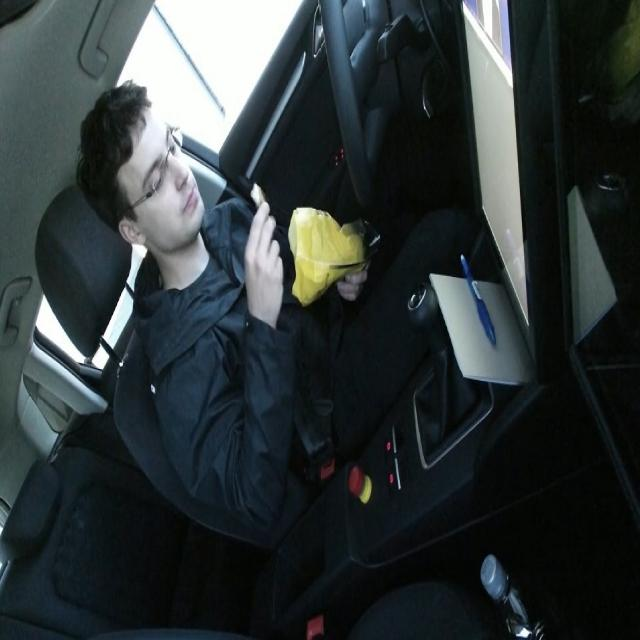pen: (458, 250, 496, 346)
